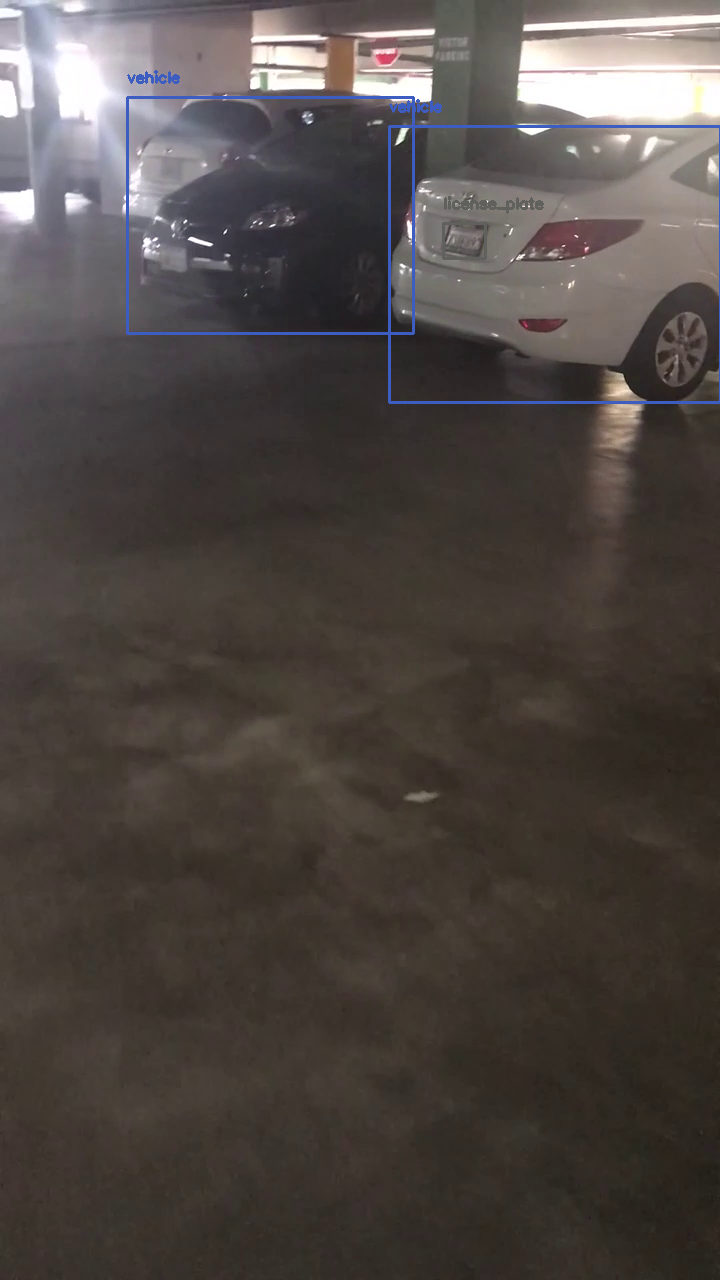license_plate: (443, 223, 485, 258)
vehicle: (389, 126, 720, 402), (127, 97, 413, 333)
